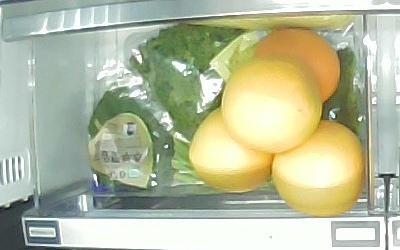grapefruit: (222, 58, 323, 152), (272, 120, 364, 216), (189, 106, 273, 192), (254, 28, 340, 104)
